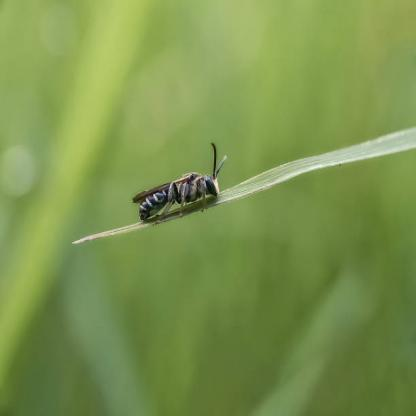sawfly: (130, 137, 230, 224)
